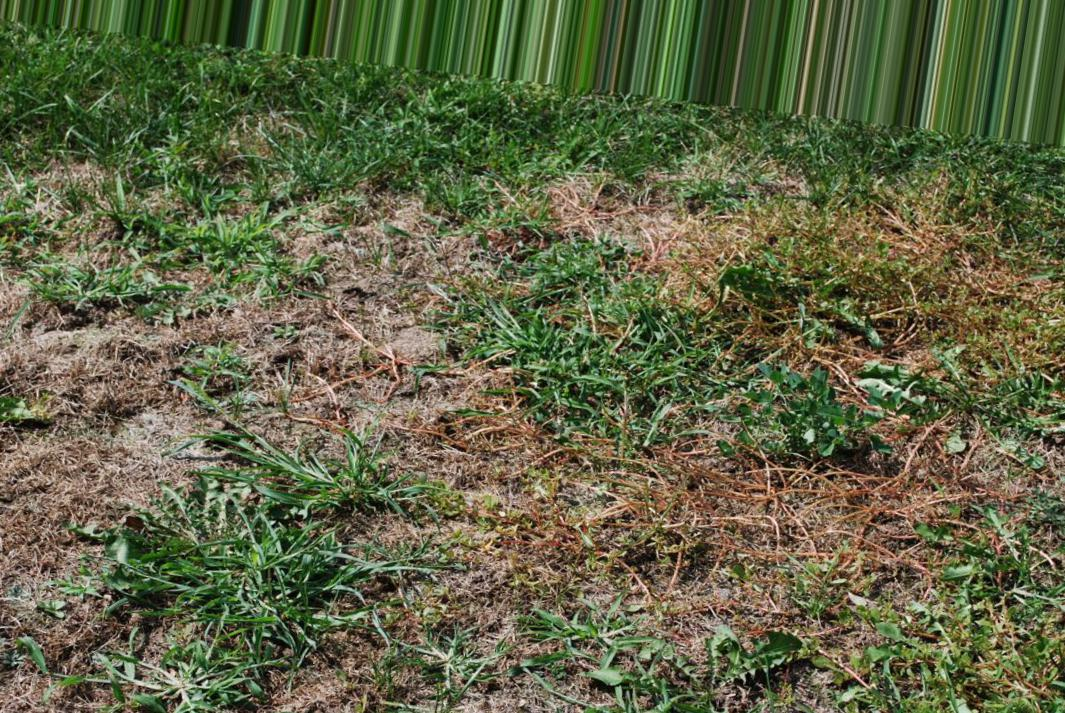patch: (286, 280, 485, 451), (13, 312, 163, 534), (598, 483, 819, 613), (409, 588, 552, 673)
